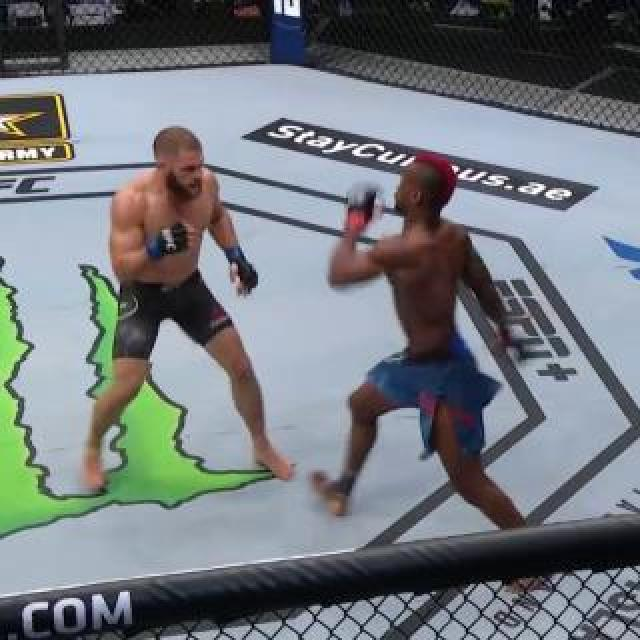fight: (91, 104, 595, 542)
